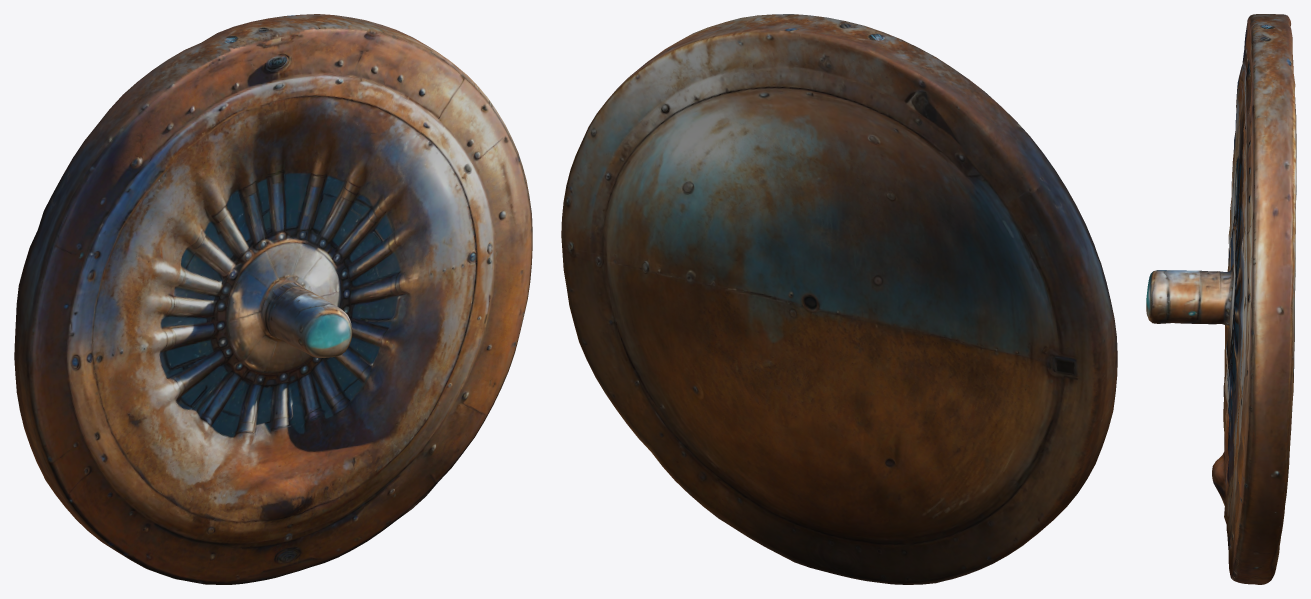
Rendered from shieldgentex.fbx.
The picture shows the model from 3 angles, left to right: view 1: azimuth 30°, elevation 25°; view 2: azimuth 150°, elevation 25°; view 3: azimuth 270°, elevation 25°; orthographic projection. The views are drawn at different scales.
Parts seen in each view (by area): view 1: Mesh0; view 2: Mesh0; view 3: Mesh0.
Part boxes in pixels (bbox=[...]): Mesh0: bbox=[14, 14, 532, 584]; Mesh0: bbox=[561, 14, 1117, 584]; Mesh0: bbox=[1146, 14, 1296, 584].
Size of the model in its own units: 200 by 199 by 52.64.
1 material, 1 textured.
